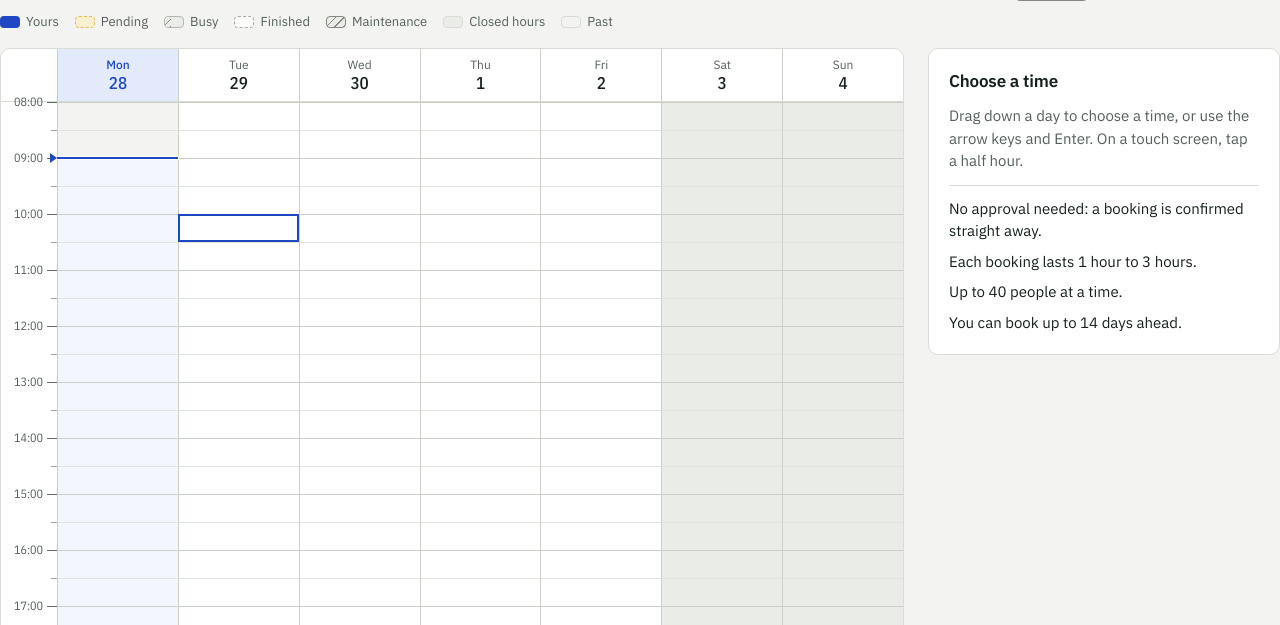
Test: booking from the calendar › recovers from a 409: rolls back, shows the winner, explains, and offers the waitlist
The image size is (1280, 625).
Press Enter
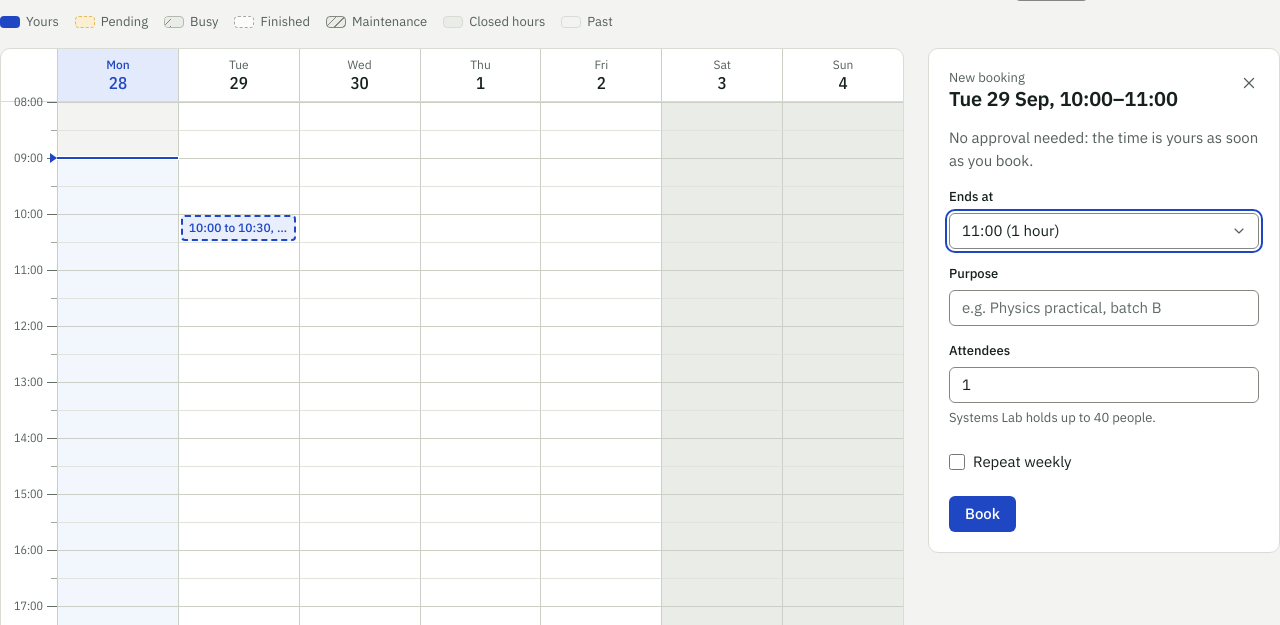
Expected: the heading "Tue 29 Sep, 10:00–11:00" is shown, [949,87,1178,111]
In the field labelled "Purpose": point(1104, 308) [949,290,1259,326], type "Networks lab"
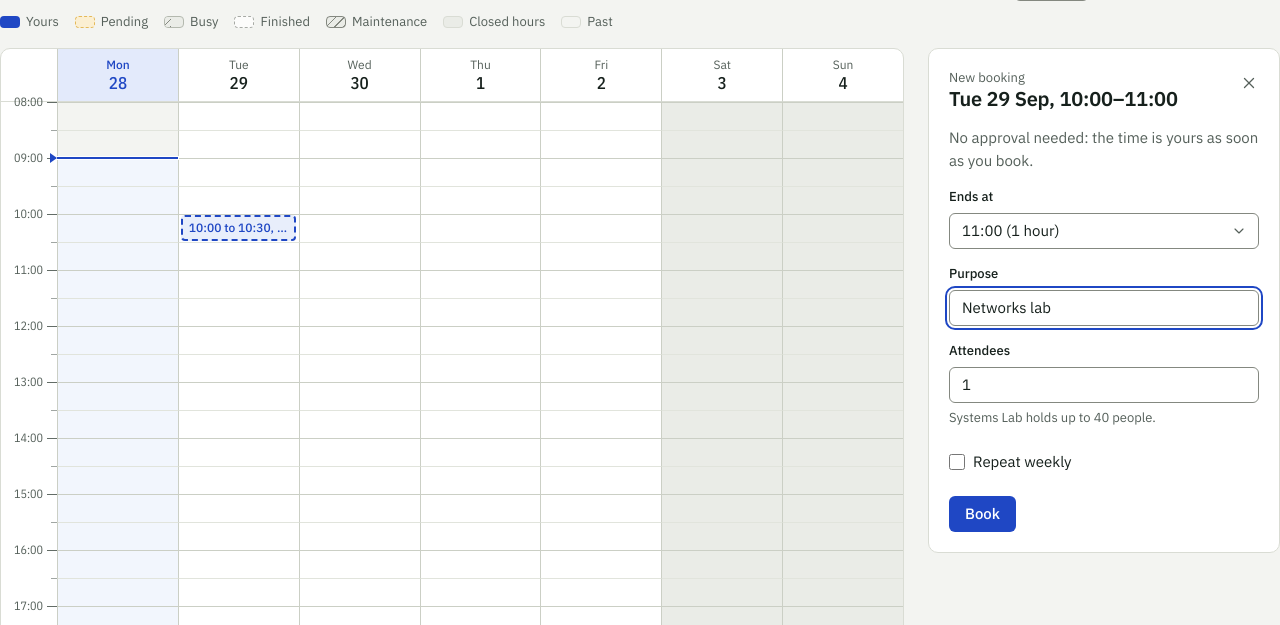
Click the button "Book": point(982, 514) [949,496,1016,532]
(page scrolled)
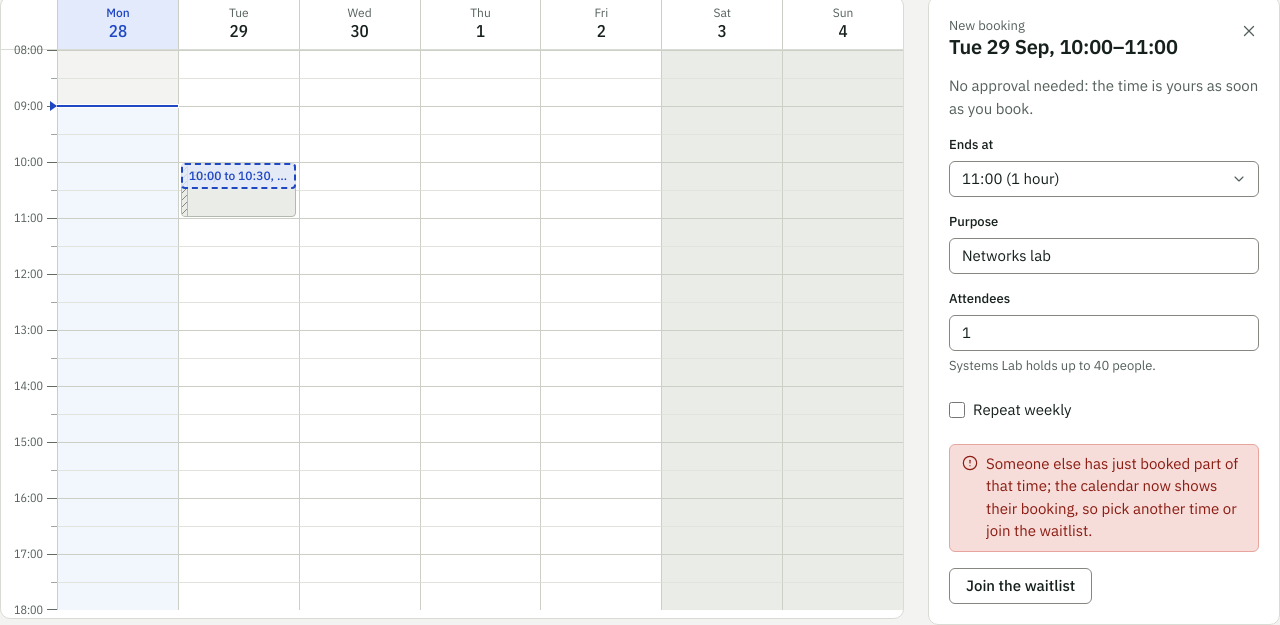
Expected: the cell named "Tuesday 29 September, 10:00 to 10:30, busy" is shown, [178,162,299,190]
Expected: the text "Someone else has just booked part of that time" is shown, [986,454,1238,540]
Click the button "Join the waitlist": point(1021, 586) [949,568,1092,604]
(page scrolled)
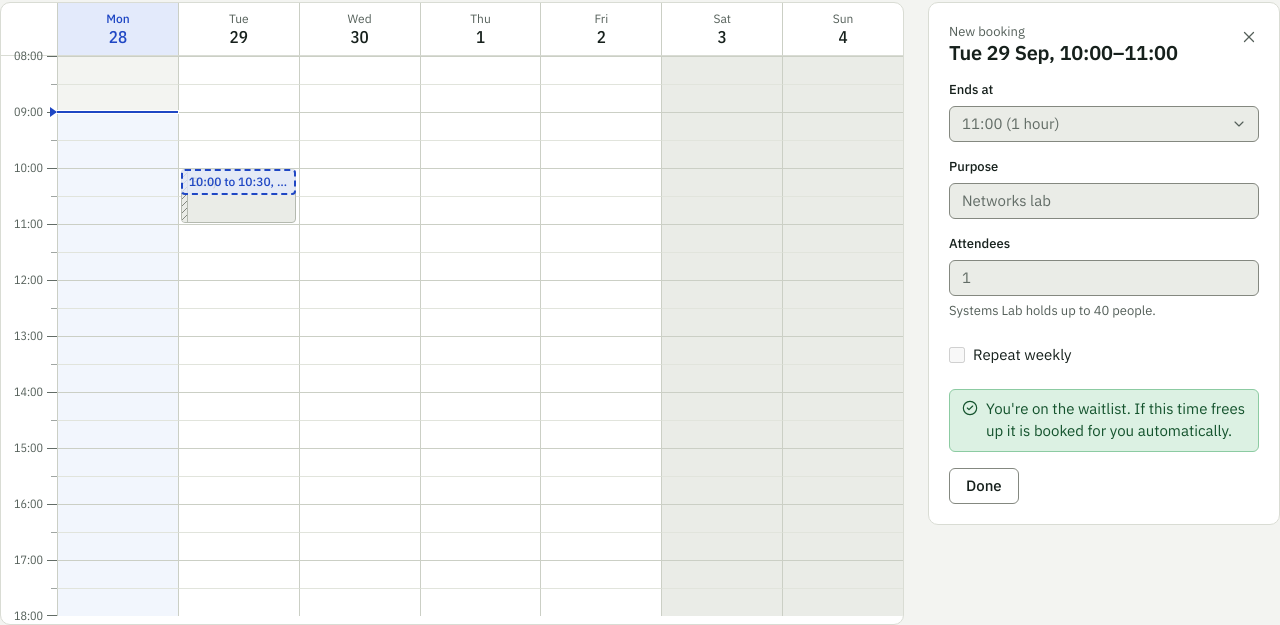
Expected: the text "You're on the waitlist" is shown, [986,399,1245,440]
